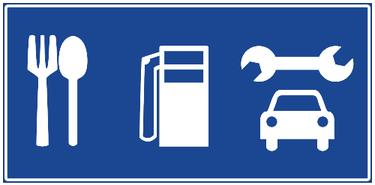Petrol Pump- Gas Station: (118, 24, 227, 155)
